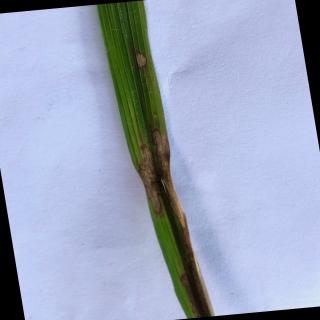Hawar-Daun: (151, 128, 216, 318), (139, 142, 158, 218), (137, 50, 147, 68)
